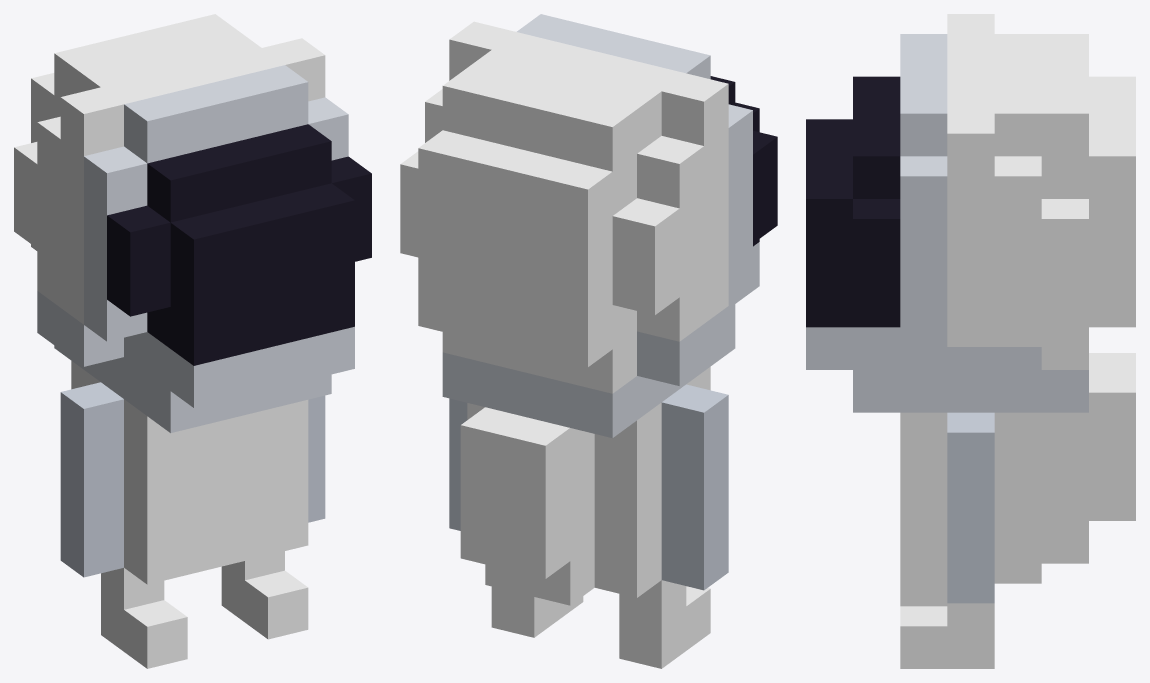
Rendered from astronaut.obj.
3 renders of one model, left to right at view 1: azimuth 30°, elevation 25°; view 2: azimuth 150°, elevation 25°; view 3: azimuth 270°, elevation 25°, orthographic. The views are drawn at different scales.
Bounding box in the file's own units: 0.6 × 1.3 × 0.7.
1 material, 1 textured.
